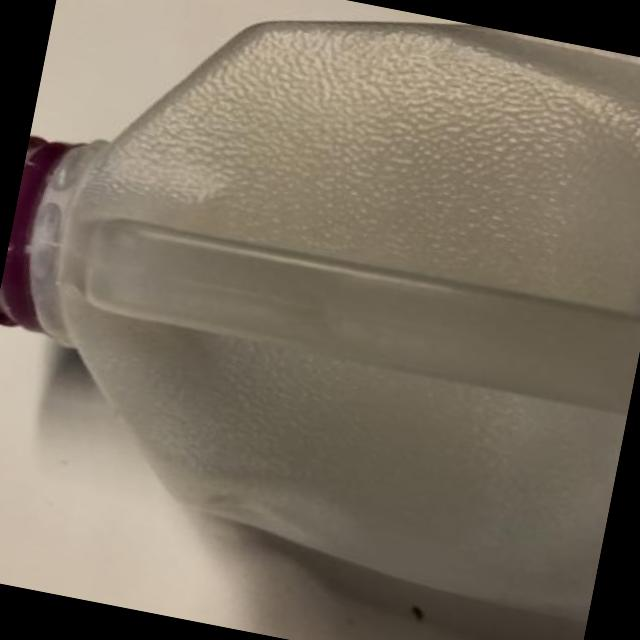bottle: (0, 22, 639, 617)
plastic: (0, 137, 72, 332)
